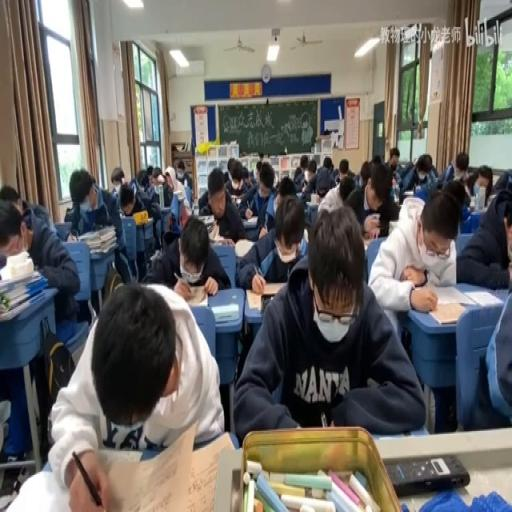calculator: (2, 468, 72, 510), (428, 284, 475, 308), (210, 300, 238, 322), (234, 236, 254, 258), (187, 288, 209, 306), (212, 232, 233, 246), (170, 186, 185, 202), (242, 214, 258, 224), (198, 214, 214, 224), (388, 219, 398, 235), (229, 195, 244, 205), (362, 238, 374, 250), (145, 182, 155, 195), (294, 189, 306, 199), (141, 216, 153, 225), (306, 198, 319, 206), (66, 232, 78, 240), (192, 200, 198, 214), (403, 191, 414, 196)
paper: (232, 205, 421, 439), (48, 279, 218, 509), (2, 194, 80, 327), (66, 165, 133, 284), (144, 212, 227, 293), (454, 176, 512, 290), (483, 280, 512, 428), (357, 160, 399, 234), (130, 170, 164, 244), (222, 156, 252, 208), (402, 152, 437, 196), (443, 179, 470, 215), (443, 151, 470, 185), (314, 156, 336, 195), (488, 171, 511, 202), (474, 165, 493, 199), (109, 165, 128, 199), (173, 160, 192, 190), (0, 184, 22, 208), (386, 147, 402, 179), (338, 173, 354, 202), (278, 176, 296, 196), (176, 196, 190, 220), (150, 165, 164, 186), (136, 168, 149, 189), (338, 158, 348, 179), (293, 166, 302, 185), (254, 159, 262, 179), (20, 198, 30, 214), (299, 155, 308, 171), (331, 168, 340, 183), (164, 175, 173, 189), (421, 162, 430, 175), (372, 154, 382, 165), (146, 162, 152, 179), (245, 176, 251, 188)
person: (385, 452, 470, 494), (260, 293, 275, 313)
